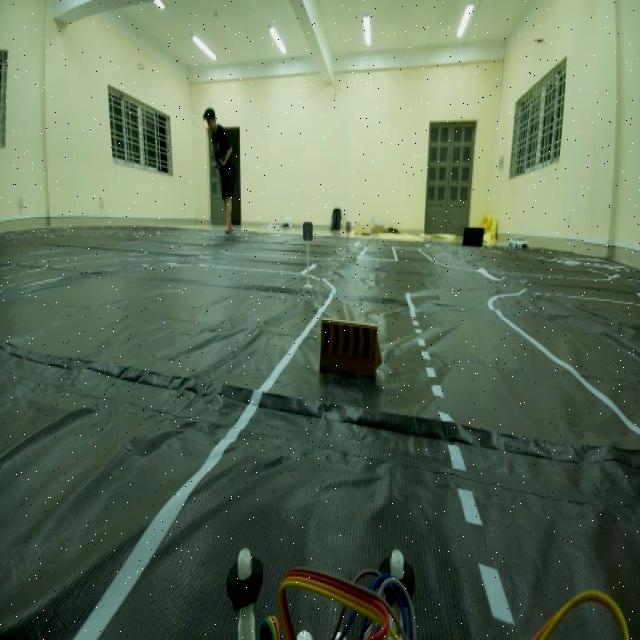roadblock: (315, 307, 385, 392)
